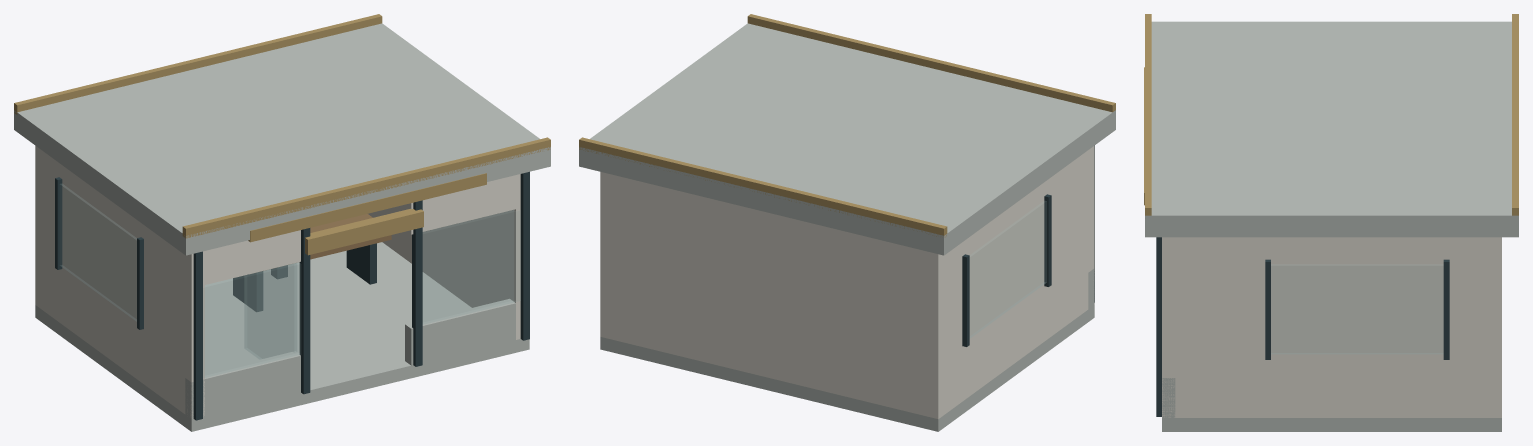
The model's file is guardhouse.glb.
3 renders of one model, left to right at view 1: azimuth 30°, elevation 25°; view 2: azimuth 150°, elevation 25°; view 3: azimuth 270°, elevation 25°, orthographic. The views are drawn at different scales.
Visible parts, largest first — view 1: GC-NK-GUARDHOUSE-stone, GC-NK-GUARDHOUSE-white, GC-NK-GUARDHOUSE-glass, GC-NK-GUARDHOUSE-gold, GC-NK-GUARDHOUSE-dark, GC-NK-GUARDHOUSE-wood; view 2: GC-NK-GUARDHOUSE-white, GC-NK-GUARDHOUSE-stone, GC-NK-GUARDHOUSE-gold, GC-NK-GUARDHOUSE-glass, GC-NK-GUARDHOUSE-dark; view 3: GC-NK-GUARDHOUSE-stone, GC-NK-GUARDHOUSE-white, GC-NK-GUARDHOUSE-glass, GC-NK-GUARDHOUSE-gold, GC-NK-GUARDHOUSE-dark.
Boxes of the visible parts, box(x1,y1,x2,y2) form: GC-NK-GUARDHOUSE-stone: box(14, 23, 550, 431); GC-NK-GUARDHOUSE-white: box(35, 146, 520, 418); GC-NK-GUARDHOUSE-glass: box(60, 184, 520, 377); GC-NK-GUARDHOUSE-gold: box(14, 14, 550, 255); GC-NK-GUARDHOUSE-dark: box(55, 171, 529, 420); GC-NK-GUARDHOUSE-wood: box(277, 214, 391, 267); GC-NK-GUARDHOUSE-white: box(600, 146, 1094, 419); GC-NK-GUARDHOUSE-stone: box(579, 23, 1115, 431); GC-NK-GUARDHOUSE-gold: box(579, 14, 1115, 237); GC-NK-GUARDHOUSE-glass: box(970, 201, 1046, 338); GC-NK-GUARDHOUSE-dark: box(962, 145, 1094, 346); GC-NK-GUARDHOUSE-stone: box(1145, 21, 1518, 431); GC-NK-GUARDHOUSE-white: box(1162, 237, 1501, 417); GC-NK-GUARDHOUSE-glass: box(1271, 265, 1443, 353); GC-NK-GUARDHOUSE-gold: box(1144, 14, 1518, 215); GC-NK-GUARDHOUSE-dark: box(1156, 237, 1449, 416).
Bounding box in the file's own units: 5.4 × 3 × 4.41.
